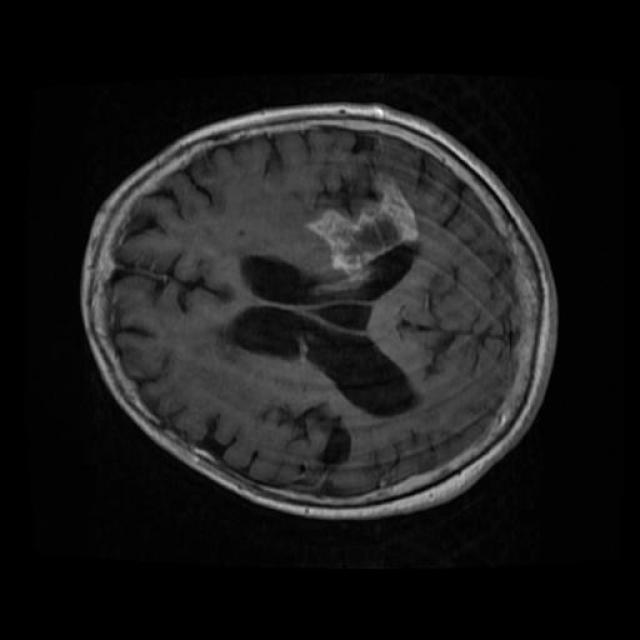Glioma: (307, 179, 418, 282)
